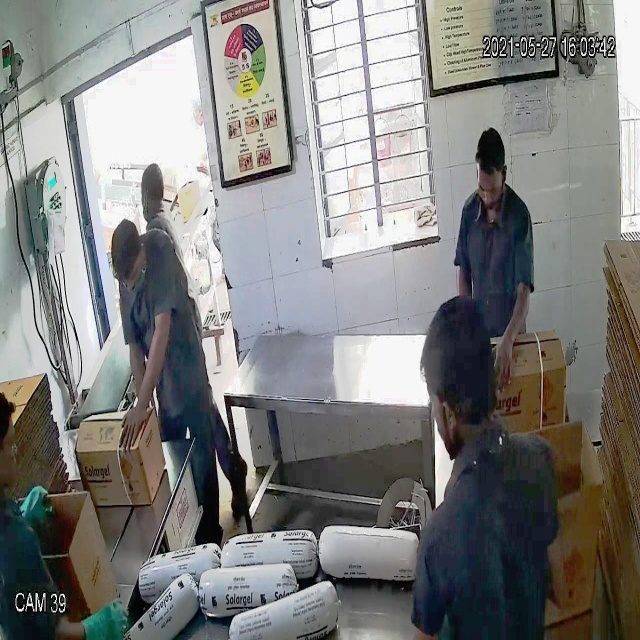Sin_gafas: (472, 172, 510, 205)
